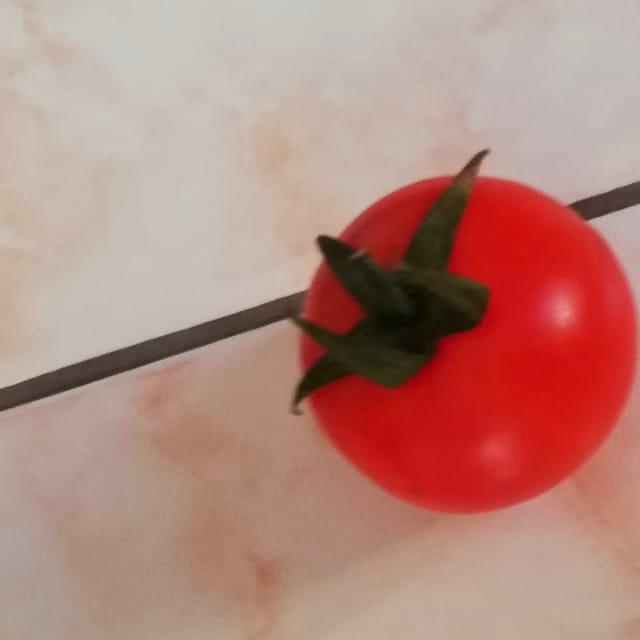tomato: (266, 147, 640, 522)
